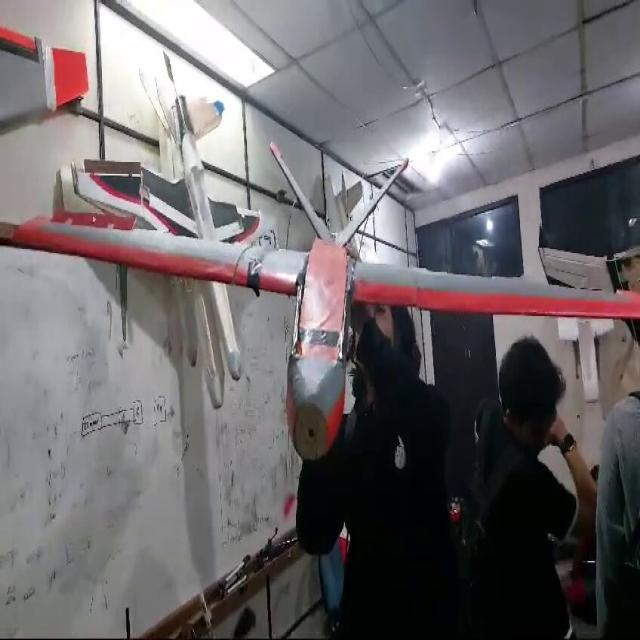plane: (2, 49, 638, 462)
